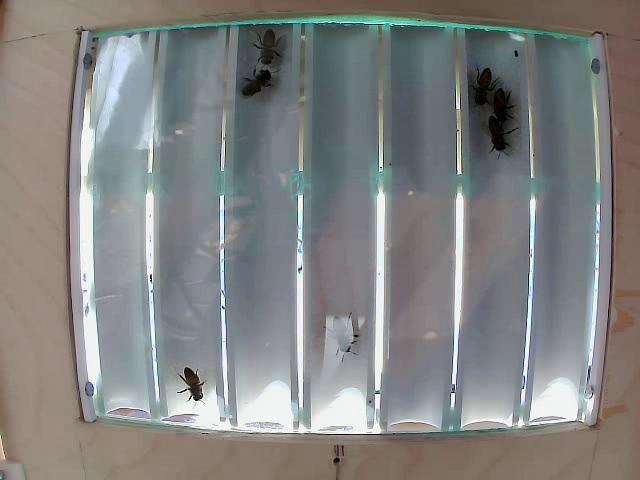bee: (464, 65, 503, 104), (235, 68, 277, 104), (483, 116, 517, 157), (253, 30, 290, 66), (501, 88, 519, 125)
